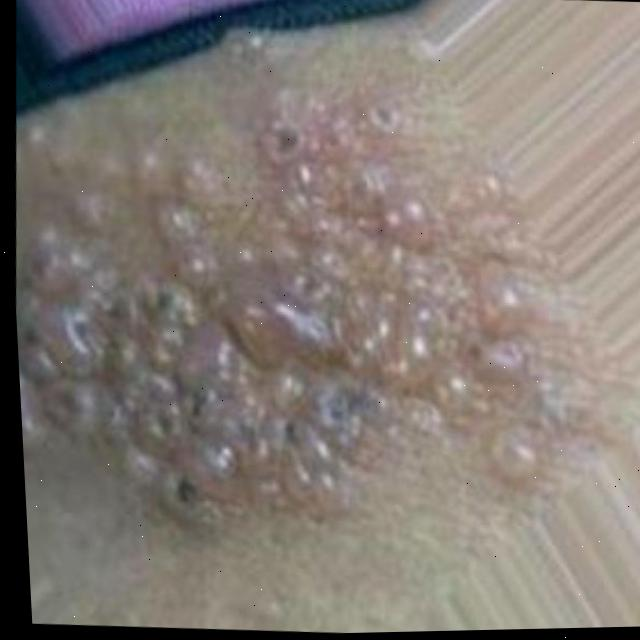Shingles: (8, 138, 545, 535)
